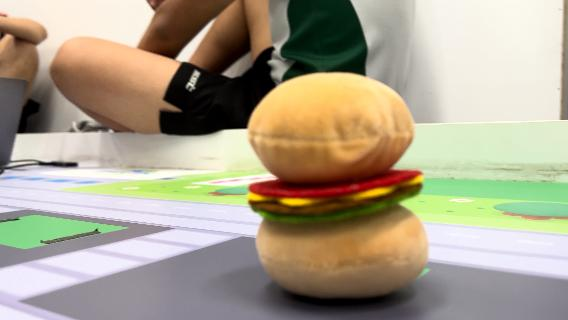burger: (240, 68, 436, 300)
